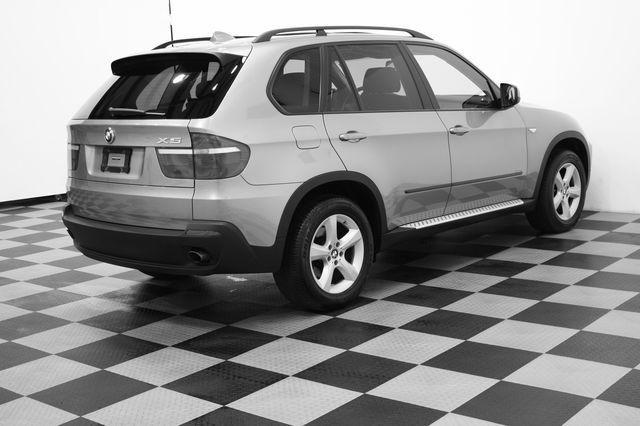car: (63, 1, 594, 316)
